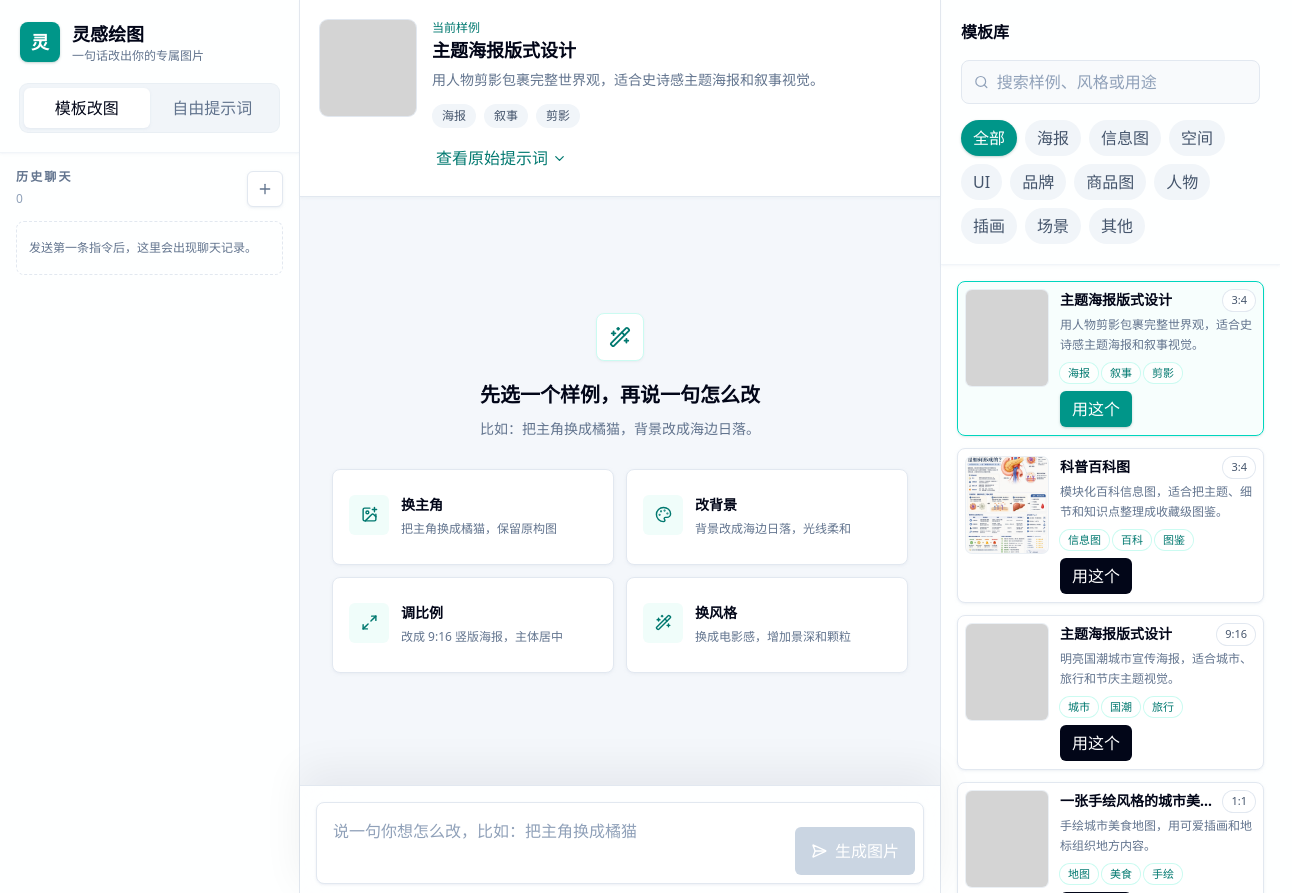
Scenario: prompt remix workspace › switches examples and toggles the source prompt
Expected: the element "科普百科图" is shown, left=957, top=448, right=1264, bottom=603
What coordinates should you click on to do the following:
click the button "用这个" below "模块化百科信息图，适合把主题、细节和知识点整理成收藏级图鉴。"
I would click on:
 (1096, 576)
Its box is left=1060, top=558, right=1132, bottom=594.
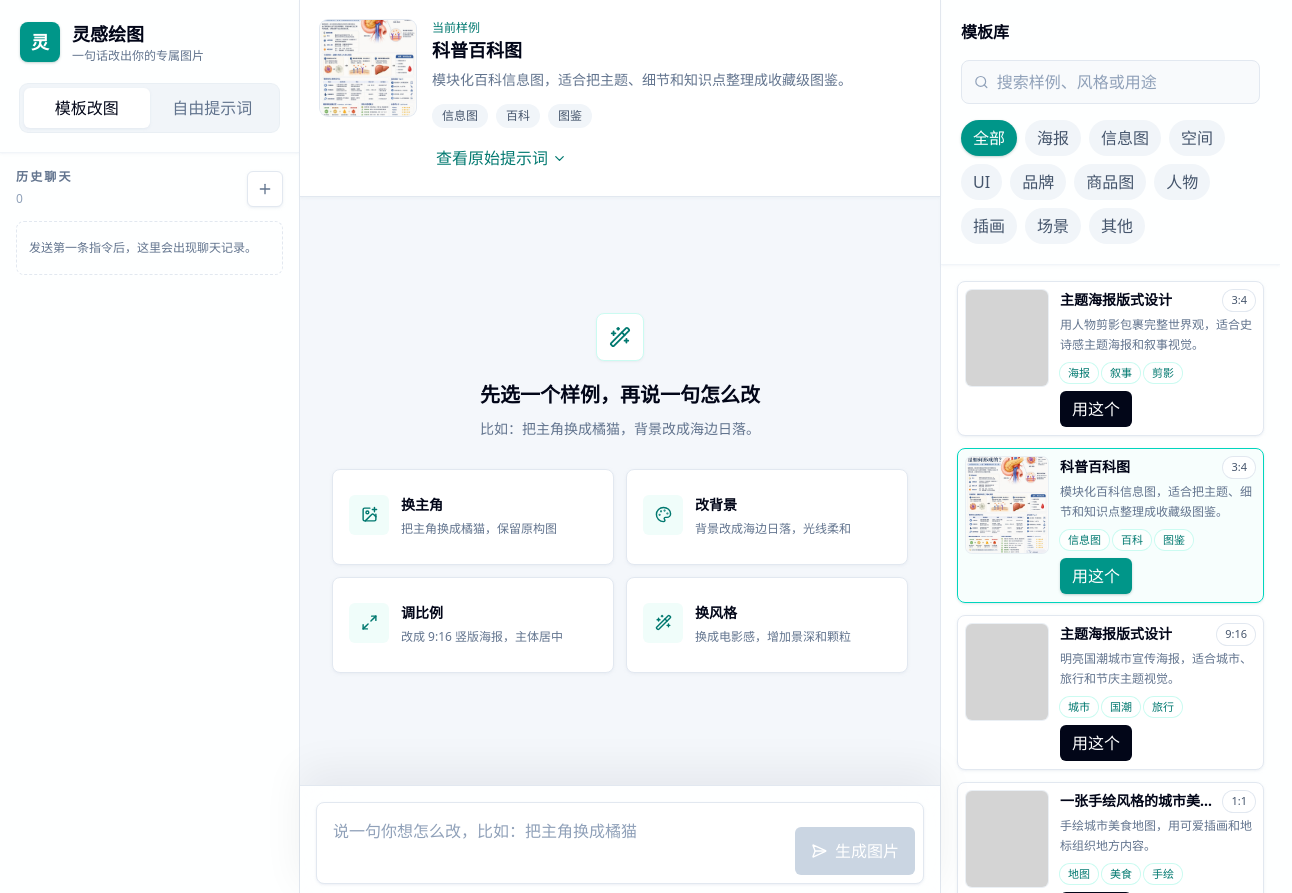
Expected: the text "根据【主题】生成一张高质量竖版" is not shown
Expected: the heading "科普百科图" below "当前样例" is shown, left=432, top=36, right=522, bottom=64
What coordinates should you click on to do the following:
click the button "查看原始提示词"
I would click on:
 (502, 158)
Its box is left=432, top=140, right=571, bottom=176.
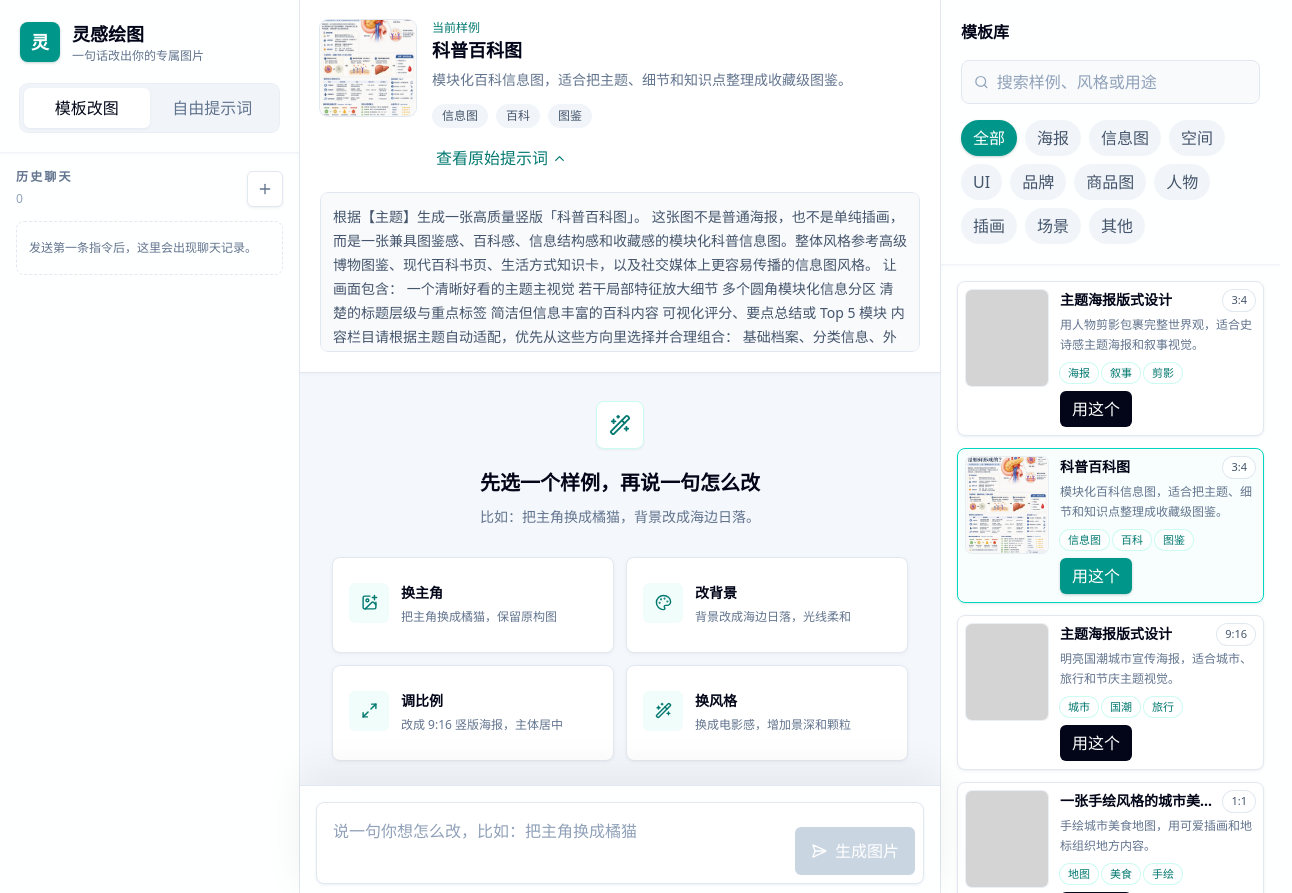
Expected: the text "根据【主题】生成一张高质量竖版" is shown, left=333, top=207, right=907, bottom=490
What coordinates should you click on to do the following:
click the button "查看原始提示词"
I would click on:
 (502, 158)
Its box is left=432, top=140, right=571, bottom=176.
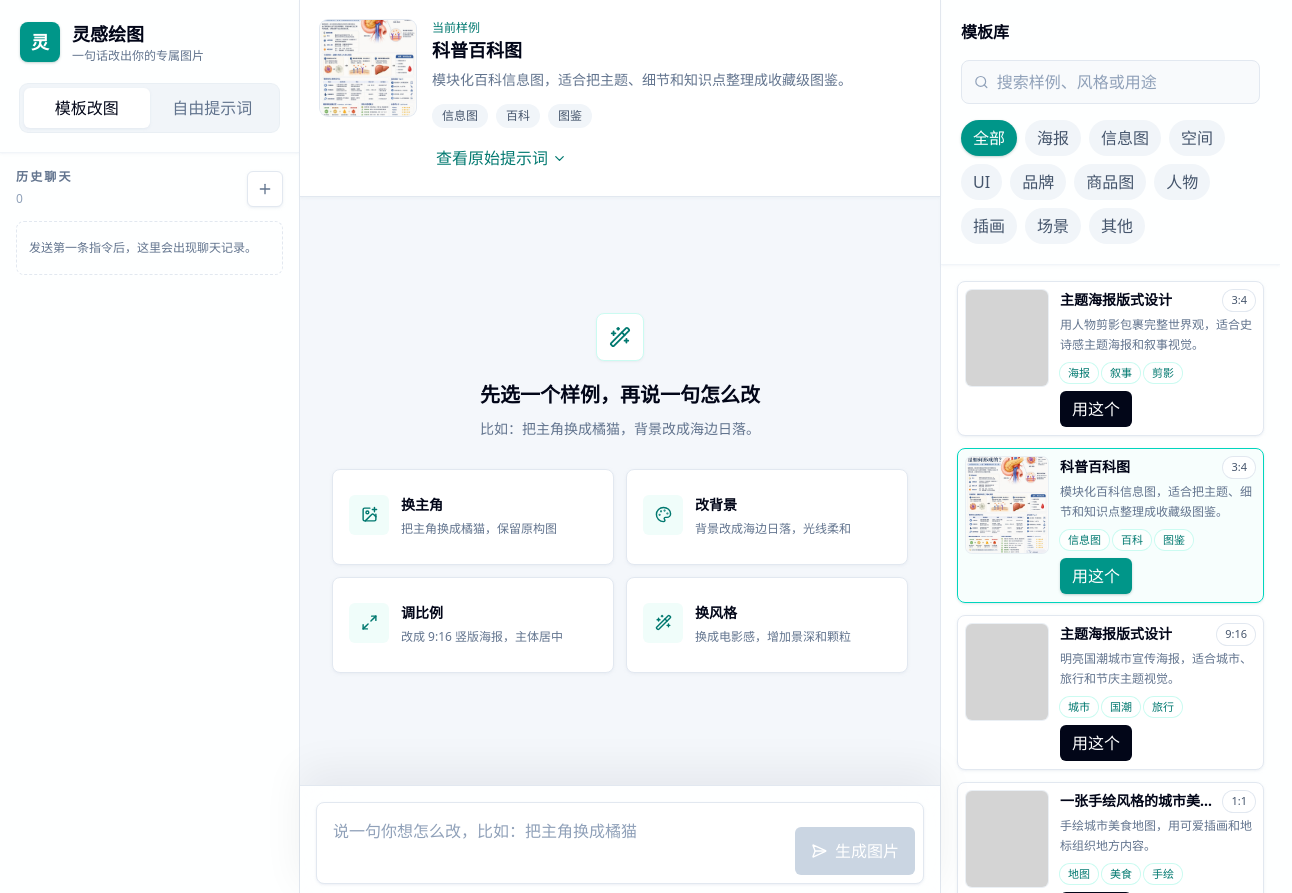
Expected: the text "根据【主题】生成一张高质量竖版" is gone
